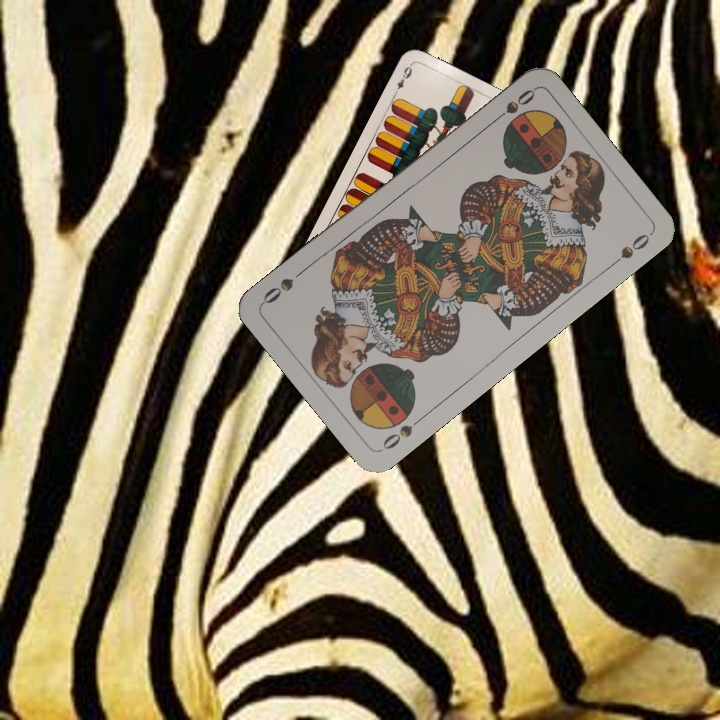E9: (390, 60, 415, 98)
SO: (377, 411, 427, 454), (487, 85, 538, 127)
